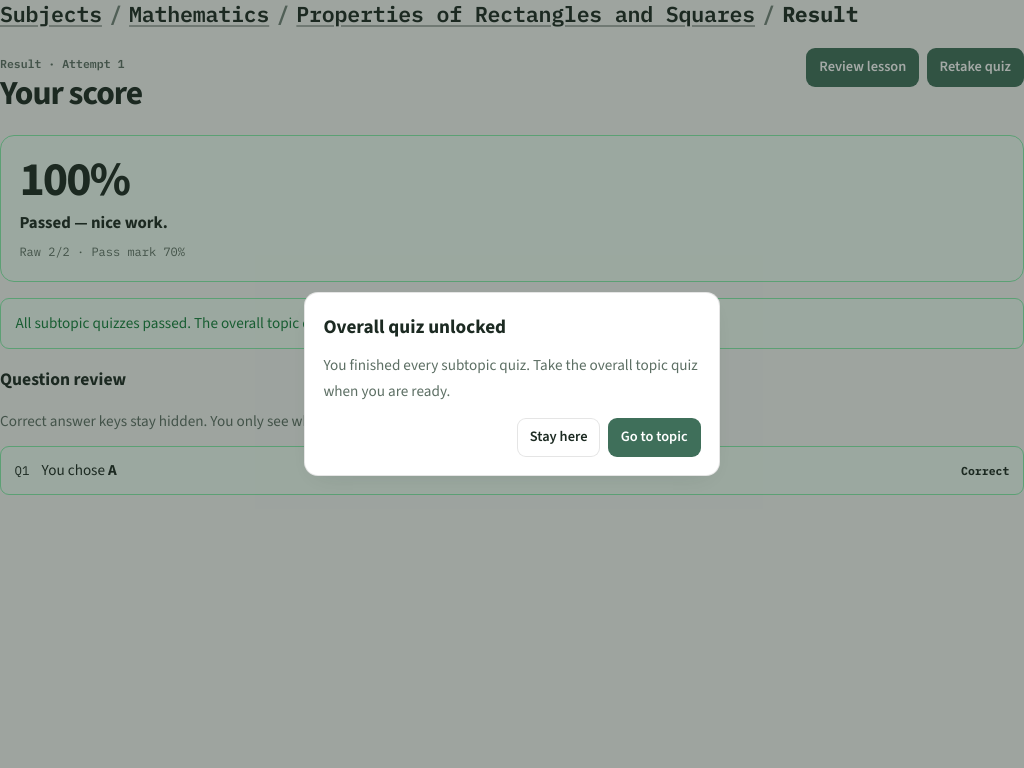
ResultPage › shows topic actions and overall unlock dialog
Expected: the heading "Your score" is shown, x1=0 y1=74 x2=142 y2=114
Expected: the text "All subtopic quizzes passed. The overall topic quiz is now unlocked." is shown, x1=0 y1=298 x2=1023 y2=349
Click the button "Stay here" at (559, 437), box x1=517 y1=418 x2=600 y2=456
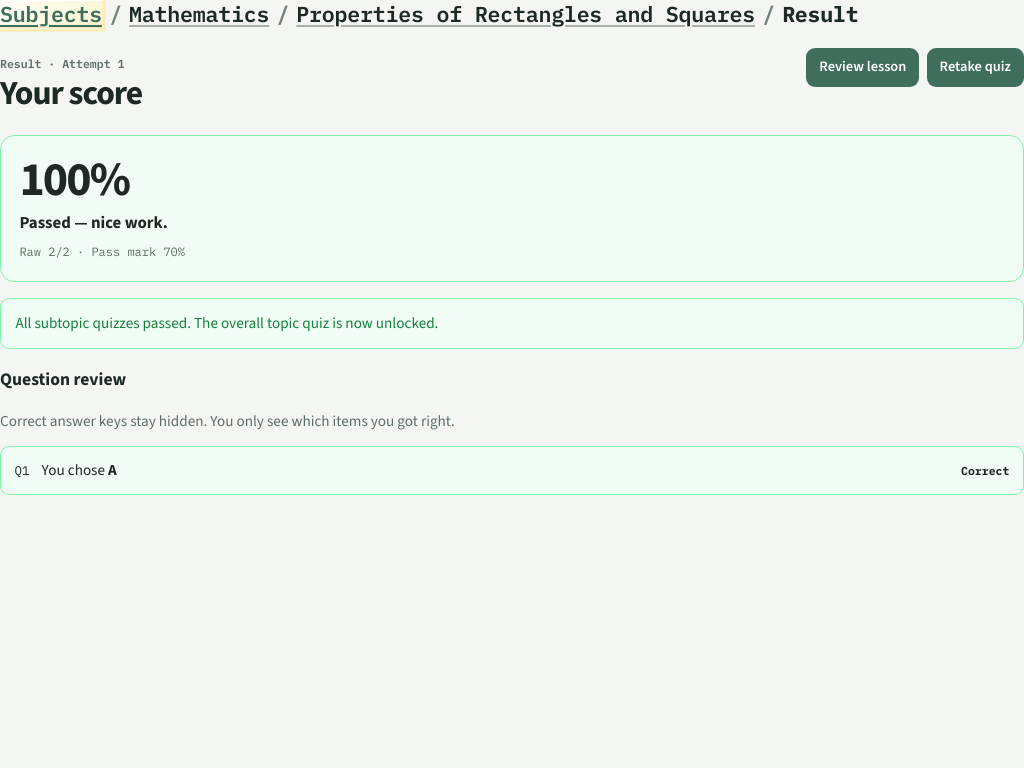
Expected: the dialog is gone
